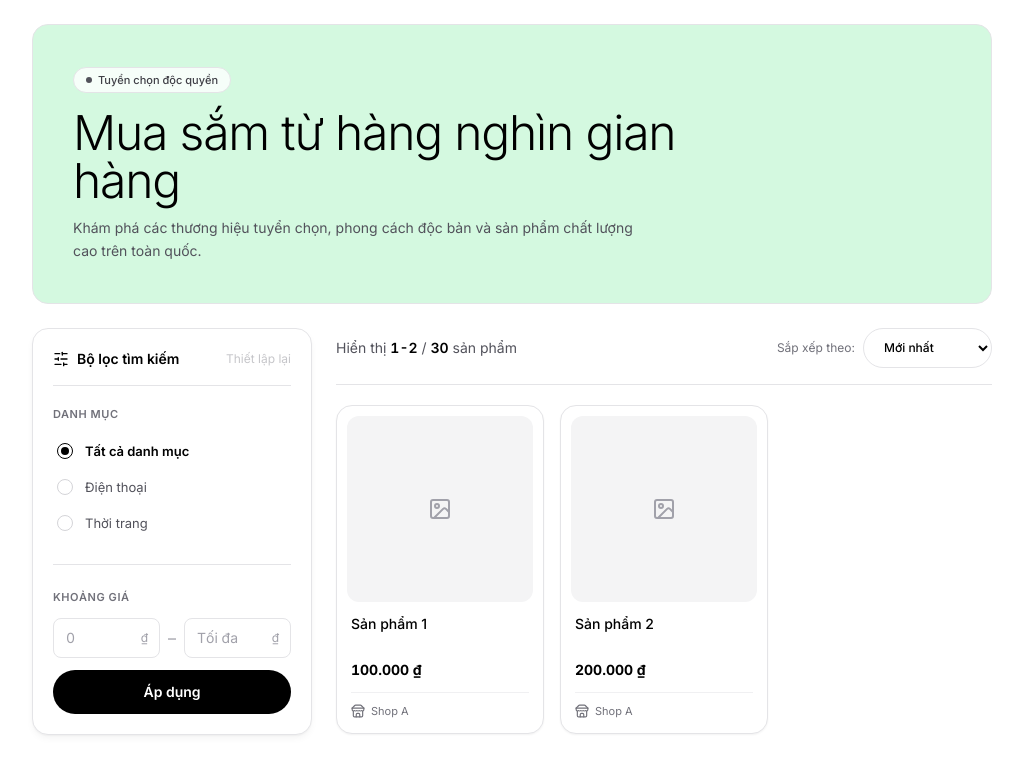
it: Homepage (danh sách sản phẩm) › rejects an inverted price range
The width and height of the screenshot is (1024, 768).
Type "900000" into the field named "Giá từ" at (106, 638), box left=53, top=618, right=160, bottom=658
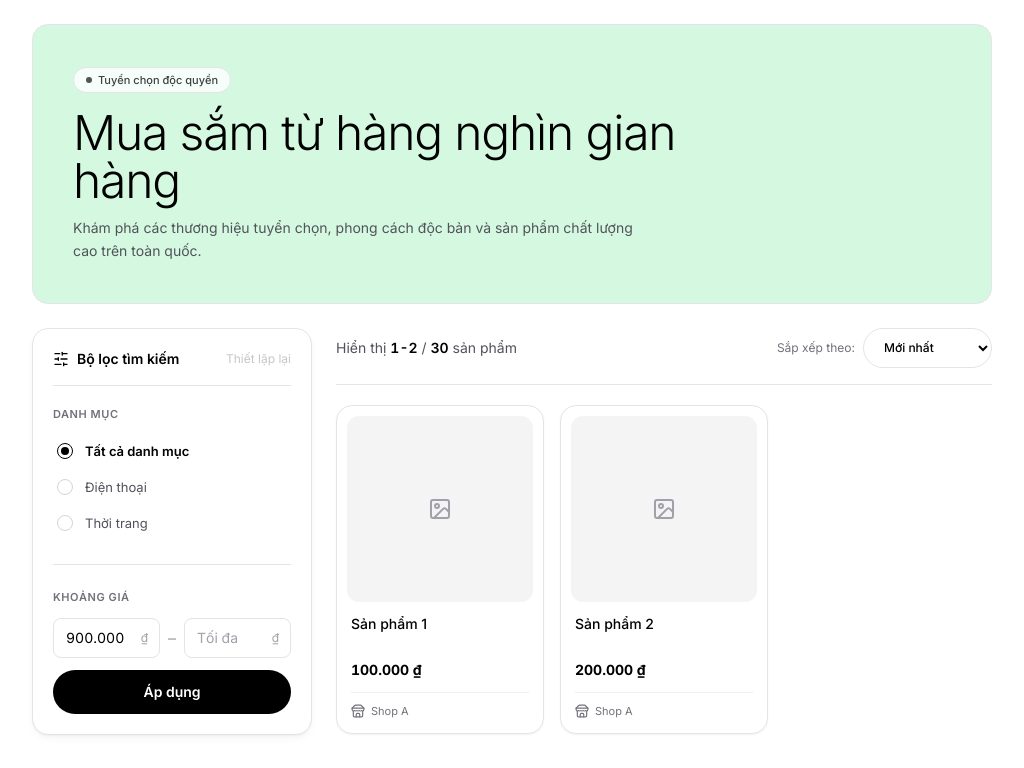
Type "100000" into the field named "Giá đến" at (238, 638), box left=184, top=618, right=291, bottom=658
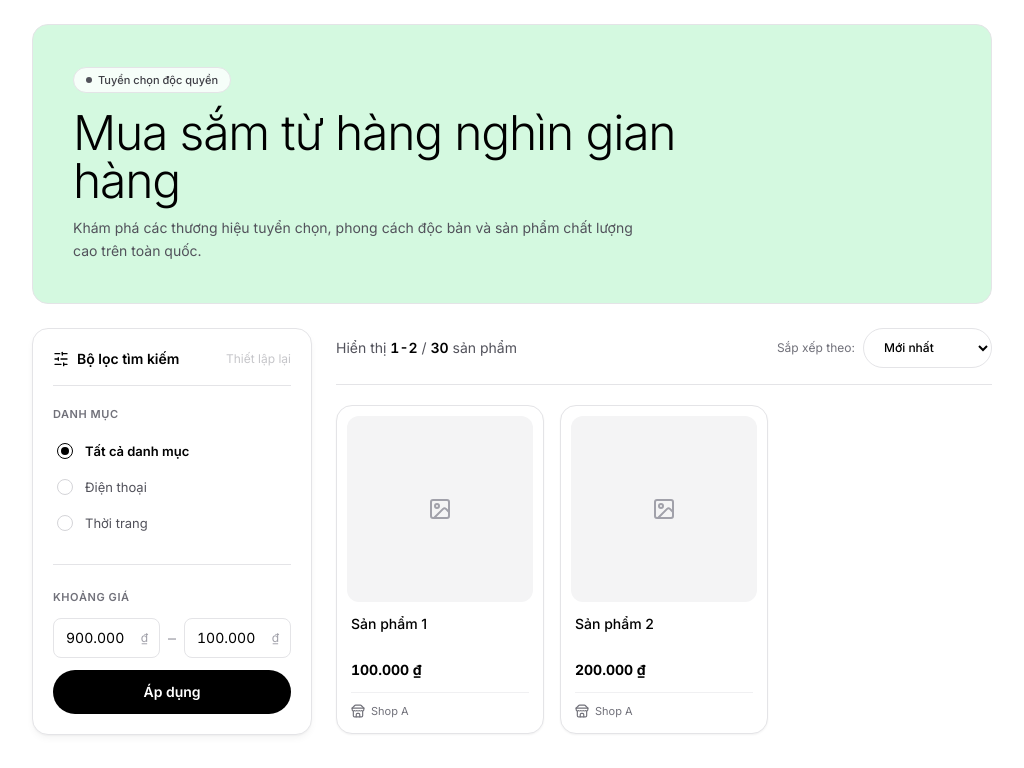
Click the button "Áp dụng" at (172, 692), box left=53, top=670, right=291, bottom=714
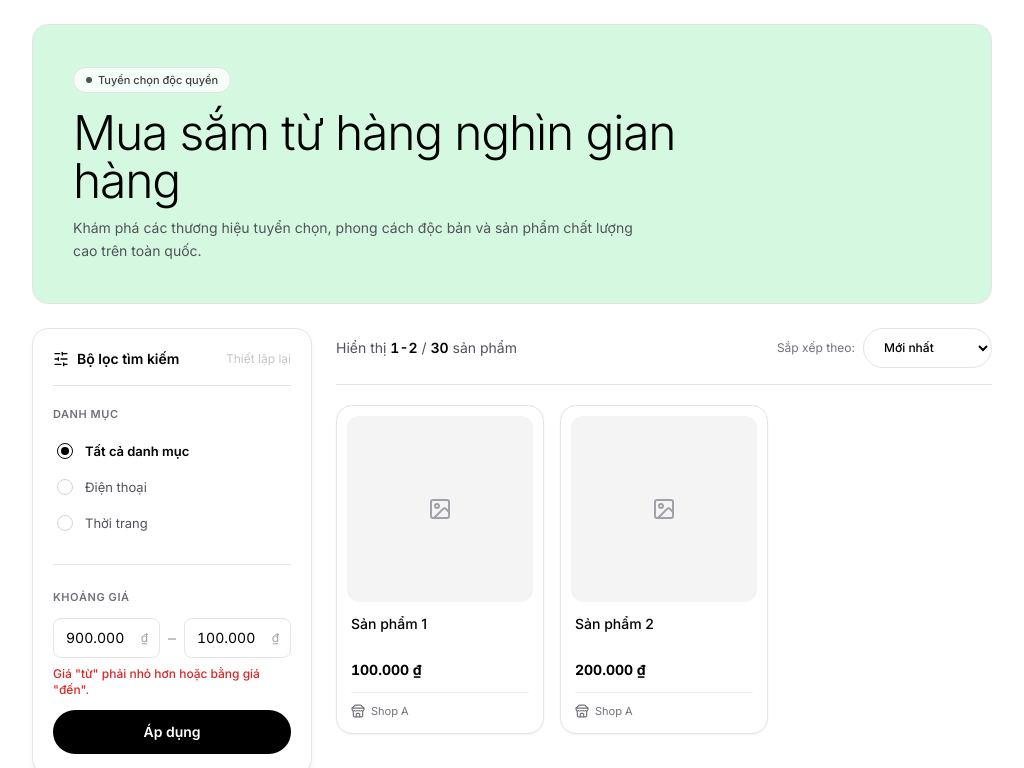
Result: the message "Giá \"từ\" phải nhỏ hơn hoặc bằng giá \"đến\"." is shown at left=53, top=666, right=291, bottom=698
